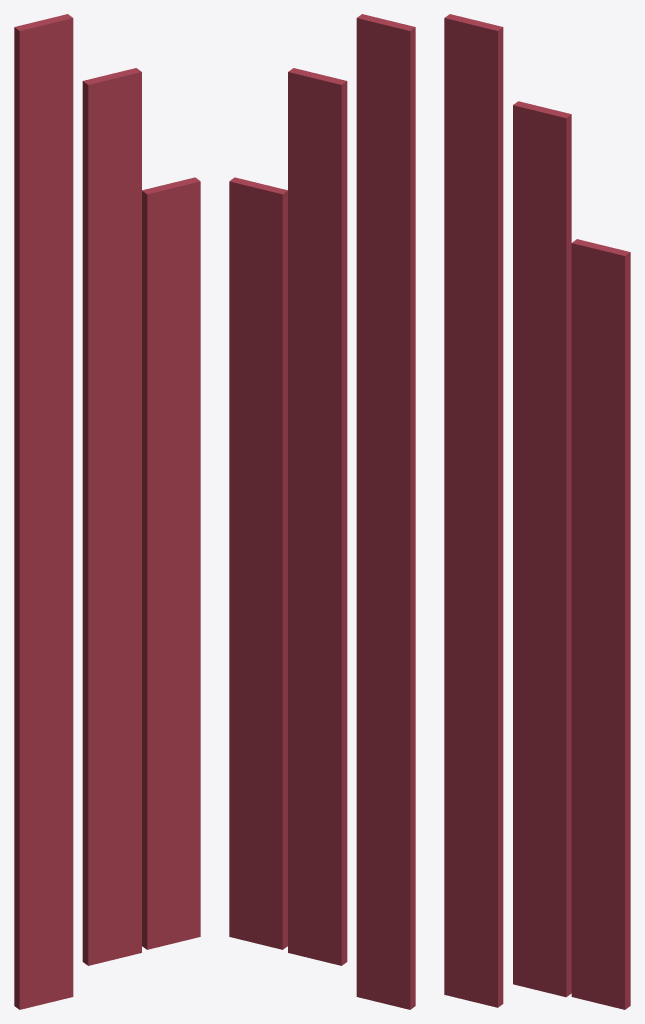
File: plank_03.fbx
The picture shows the model from 3 angles, left to right: view 1: azimuth 30°, elevation 25°; view 2: azimuth 150°, elevation 25°; view 3: azimuth 330°, elevation 25°; orthographic projection.
Visible parts, largest first — view 1: polySurface4914; view 2: polySurface4914; view 3: polySurface4914.
Boxes of the visible parts, x1,y1,x2,y2 form: polySurface4914: (14, 14, 200, 1009); polySurface4914: (229, 14, 415, 1009); polySurface4914: (444, 14, 630, 1009).
Bounding box in the file's own units: 0.3881 × 2.01 × 0.0205.
